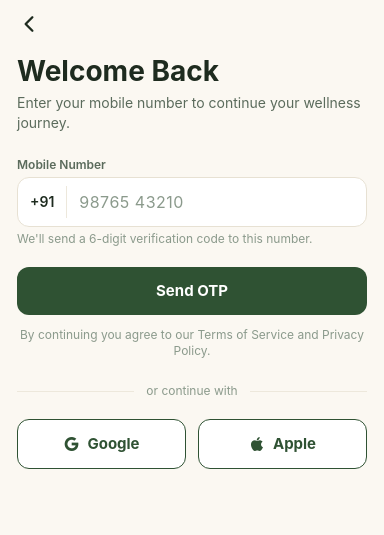
Scenario: LoginScreen › shows the AuthError message when requestOtp rejects with a known error
Type "9876543210" into the field named "Mobile number" at [217, 202], box x1=79 y1=178 x2=354 y2=226
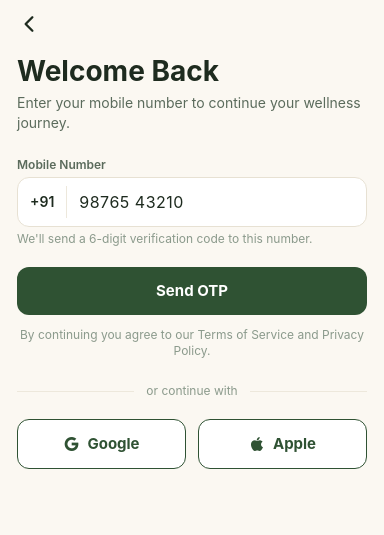
Click the button "Send OTP" at [192, 291], box x1=17 y1=267 x2=367 y2=315
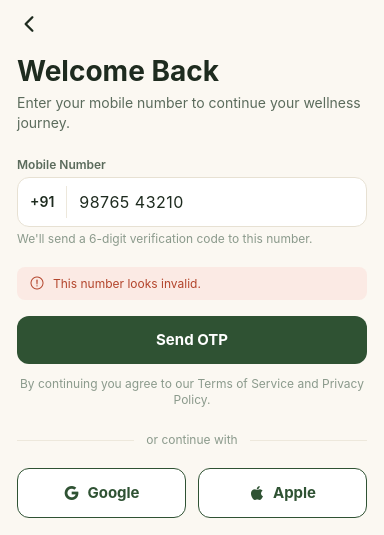
expect the text "This number looks invalid." is shown: met, box x1=53 y1=276 x2=201 y2=290
